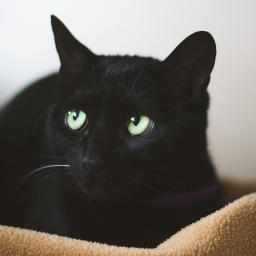cat: (31, 12, 221, 208)
